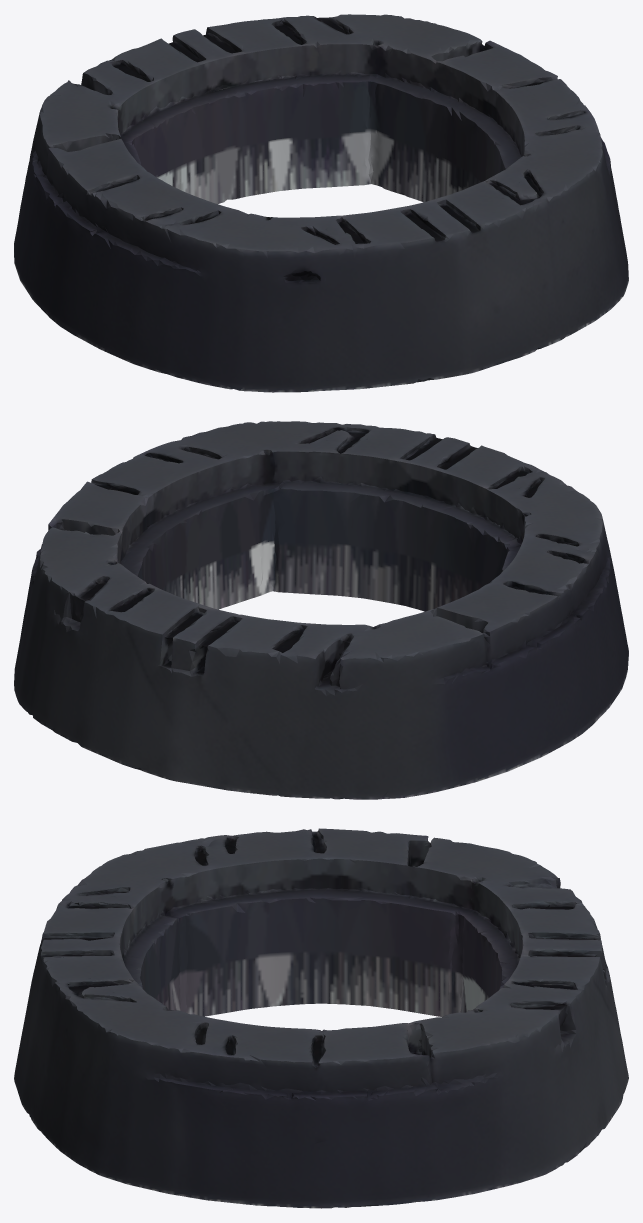
Rendered from rodin_Forge_ArchGate2_raw.glb.
3 renders of one model, top to bottom at view 1: azimuth 30°, elevation 25°; view 2: azimuth 150°, elevation 25°; view 3: azimuth 270°, elevation 25°, orthographic. The views are drawn at different scales.
Parts seen in each view (by area): view 1: model; view 2: model; view 3: model.
Boxes of the visible parts, <box> form: model: <box>14,14,628,392</box>; model: <box>14,421,628,799</box>; model: <box>14,828,628,1208</box>.
Size of the model in its own units: 1.9 by 0.4605 by 1.9.
1 material, 1 textured.
